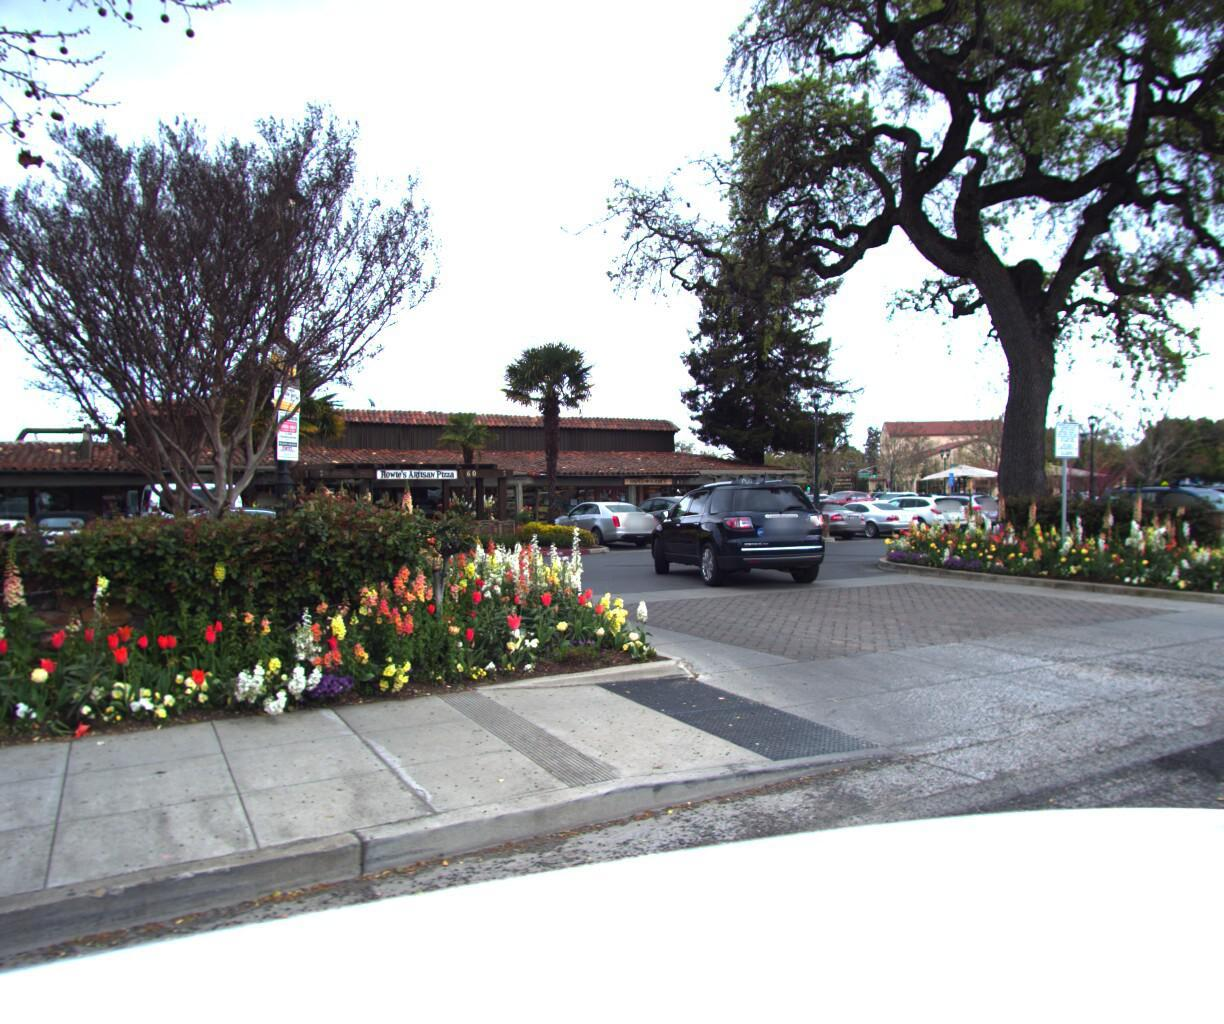car: (641, 482, 846, 596), (1086, 479, 1224, 568), (0, 511, 61, 700), (1147, 480, 1224, 558), (1205, 494, 1224, 552)
